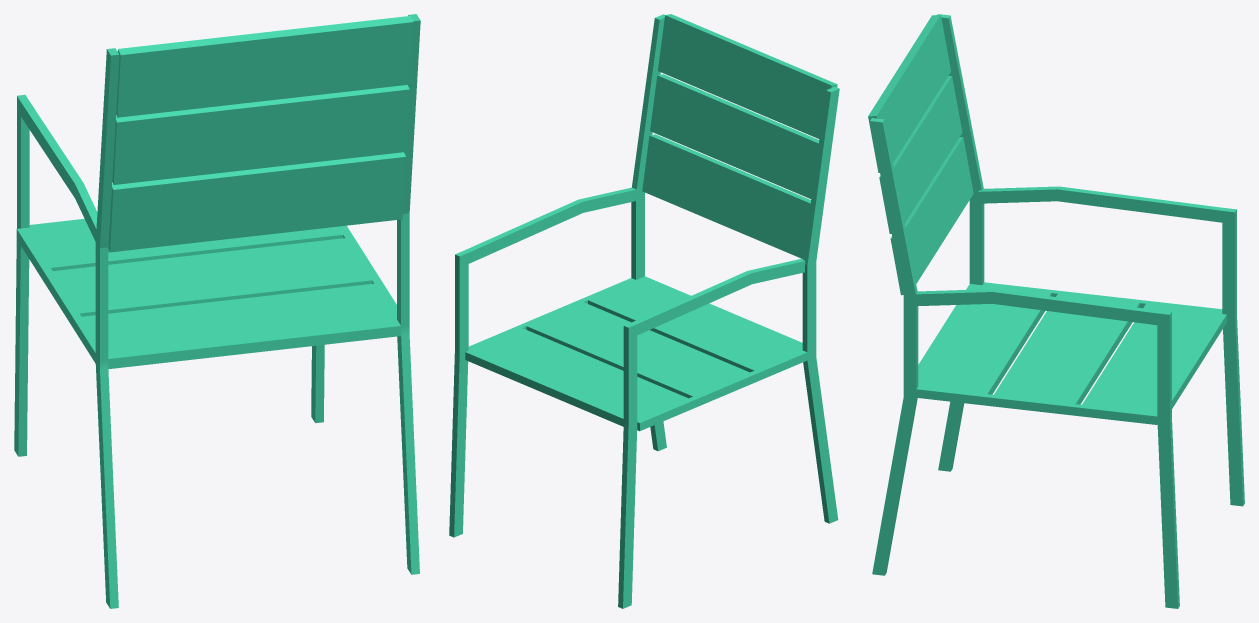
The model's file is outerChair.fbx.
The picture shows the model from 3 angles, left to right: view 1: azimuth 30°, elevation 25°; view 2: azimuth 150°, elevation 25°; view 3: azimuth 270°, elevation 25°; orthographic projection. The views are drawn at different scales.
Parts seen in each view (by area): view 1: outerChair; view 2: outerChair; view 3: outerChair.
Part boxes in pixels (x1,y1,x2,y2): outerChair: (14,14,420,608); outerChair: (449,14,839,608); outerChair: (868,14,1244,608).
Size of the model in its own units: 63.01 by 94.4 by 70.76.
